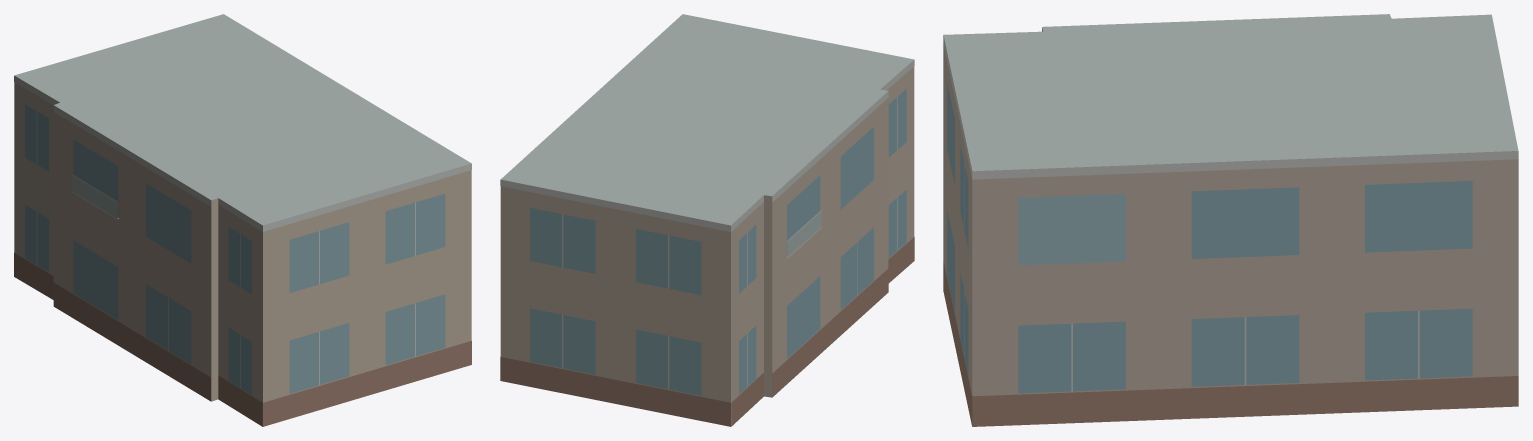
Rendered from survey-upis-32621807.glb.
3 renders of one model, left to right at view 1: azimuth 30°, elevation 25°; view 2: azimuth 150°, elevation 25°; view 3: azimuth 270°, elevation 25°, orthographic. The views are drawn at different scales.
Visible parts, largest first — view 1: survey-upis-32621807.tmp; view 2: survey-upis-32621807.tmp; view 3: survey-upis-32621807.tmp.
Part boxes in pixels (x1,y1,x2,y2): survey-upis-32621807.tmp: (14, 14, 471, 426); survey-upis-32621807.tmp: (500, 14, 914, 426); survey-upis-32621807.tmp: (943, 14, 1518, 426).
Bounding box in the file's own units: 9.91 × 7.5 × 15.3.
